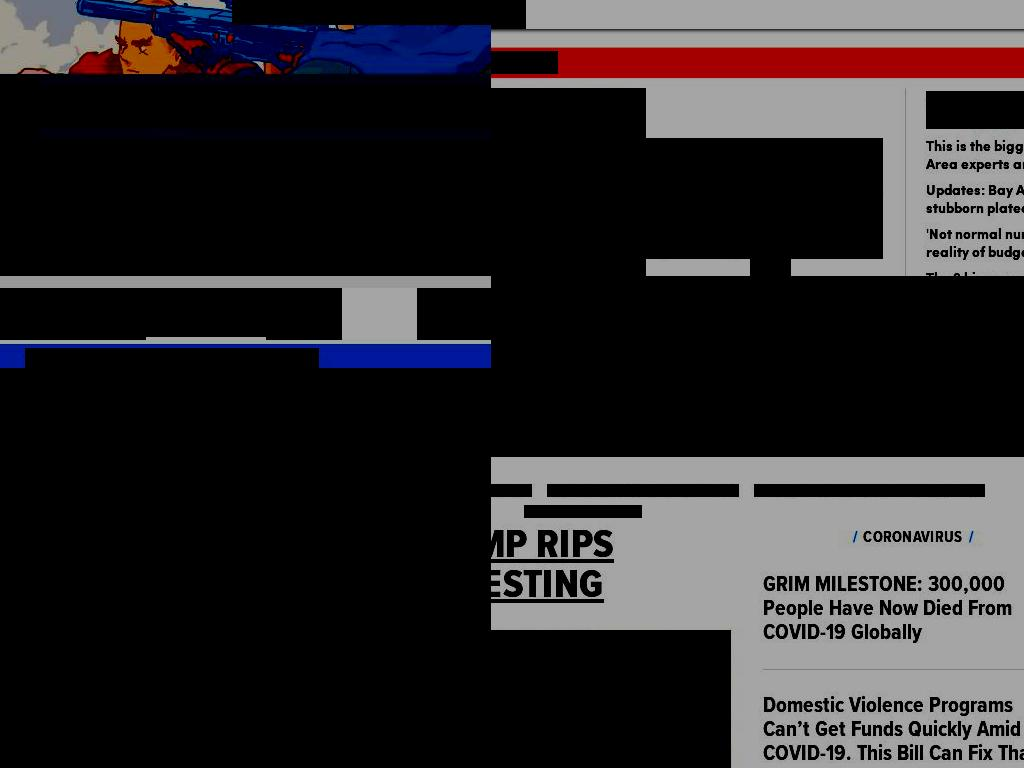button: (491, 88, 646, 276), (762, 573, 1024, 645), (762, 694, 1024, 766), (38, 288, 146, 340), (184, 288, 266, 337), (266, 288, 342, 340), (417, 288, 491, 340), (499, 380, 667, 402), (0, 74, 39, 139), (0, 288, 48, 340), (136, 288, 184, 337), (574, 429, 688, 445), (750, 429, 825, 445), (901, 429, 974, 445), (870, 336, 947, 351), (491, 429, 558, 445), (841, 429, 885, 445), (879, 384, 918, 398), (704, 429, 734, 445)
field: (38, 85, 491, 128)
heading: (1, 170, 491, 276), (762, 573, 1024, 645), (762, 694, 1024, 766), (852, 525, 973, 549), (491, 51, 558, 74)
iframe: (491, 276, 947, 332)
image: (0, 368, 491, 768), (0, 140, 491, 276), (491, 276, 1024, 366), (491, 88, 626, 276), (499, 380, 667, 402), (870, 336, 947, 351), (0, 92, 14, 122)
link: (646, 138, 883, 259), (491, 525, 614, 605), (232, 0, 491, 25), (25, 348, 319, 369), (926, 91, 1024, 129), (926, 135, 1024, 173), (926, 179, 1024, 217), (926, 223, 1024, 261), (754, 484, 985, 497), (547, 484, 739, 497), (524, 505, 642, 518), (955, 384, 1024, 398)
text: (972, 113, 1024, 161), (750, 238, 791, 276), (433, 305, 491, 323)
